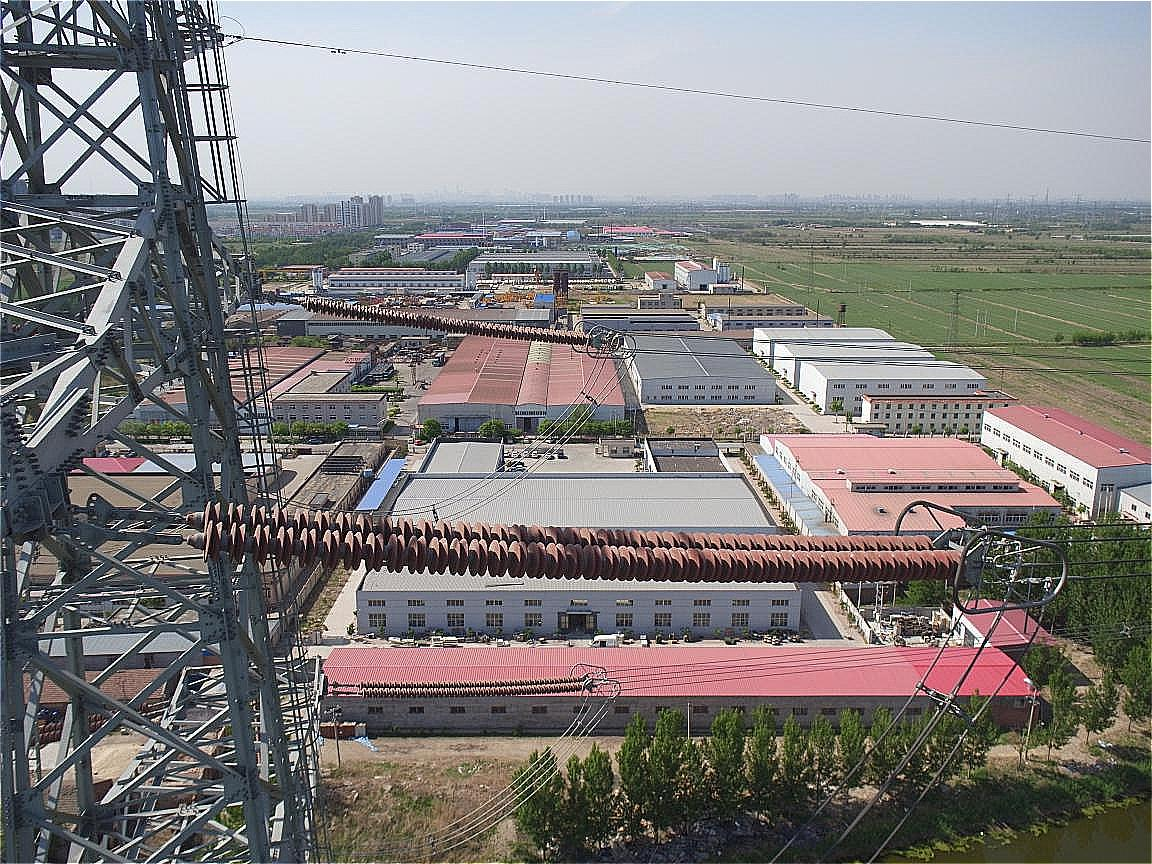insultor2: (195, 502, 966, 584), (305, 297, 592, 348), (357, 677, 585, 701)
